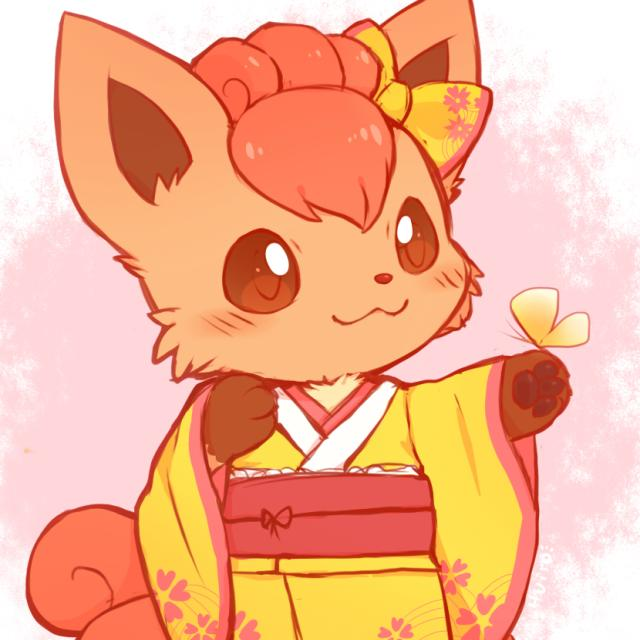Vulpix: (97, 0, 494, 470)
